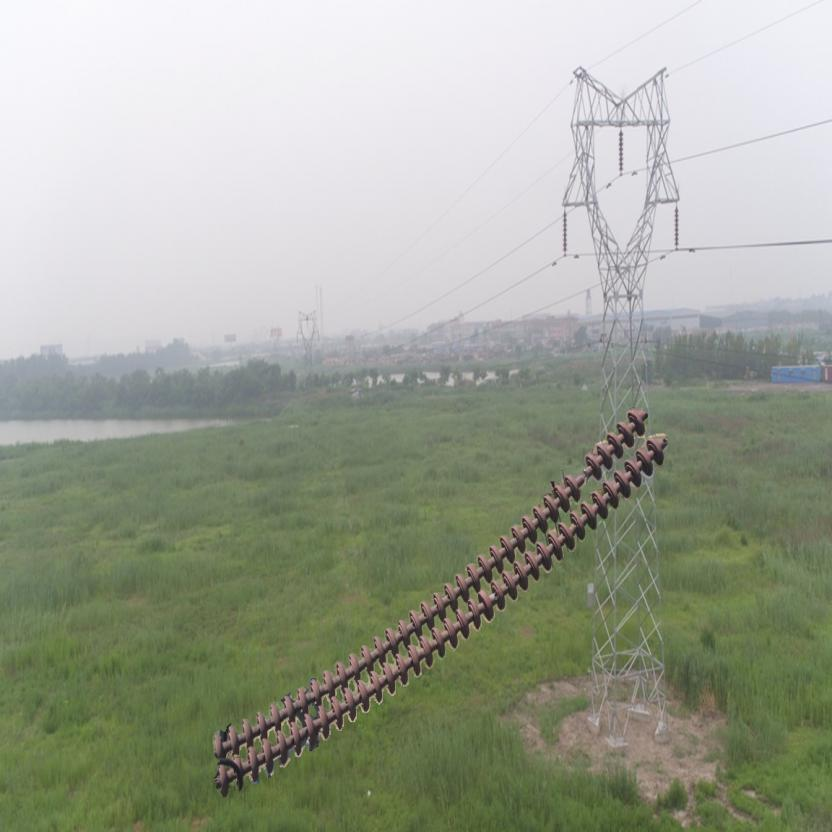defect: (560, 450, 602, 502)
